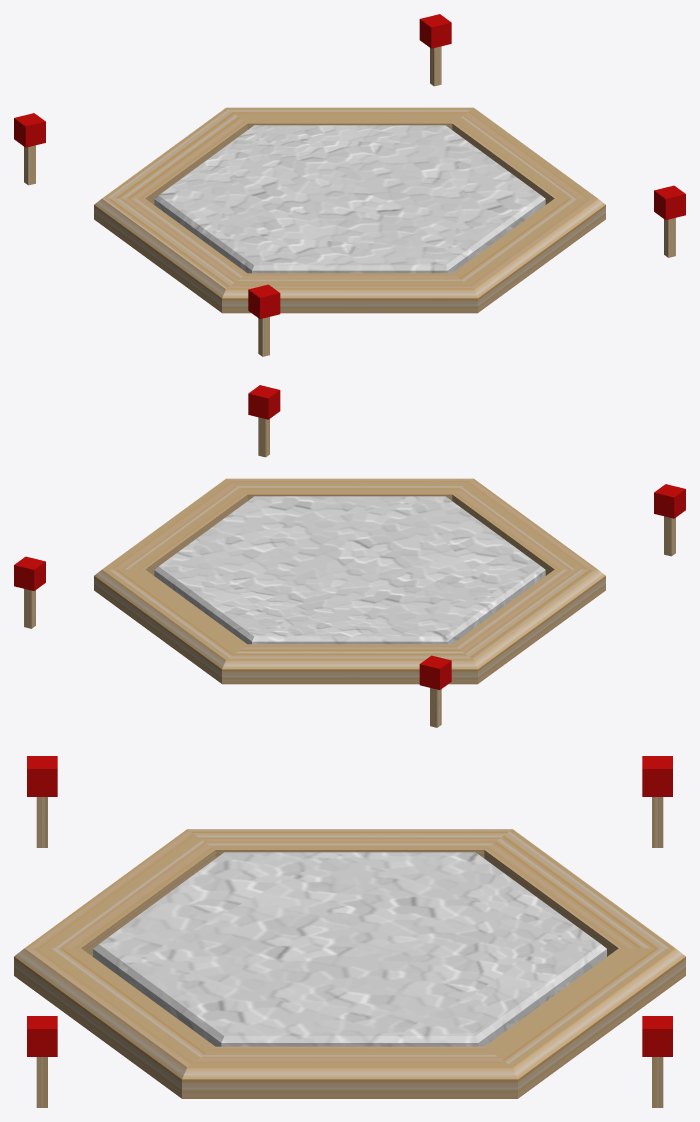
The model's file is Switch.obj.
3 renders of one model, top to bottom at view 1: azimuth 30°, elevation 25°; view 2: azimuth 150°, elevation 25°; view 3: azimuth 270°, elevation 25°, orthographic. The views are drawn at different scales.
Parts seen in each view (by area): view 1: Cylinder.001, Cylinder, Cube_Cube.003, Cube.001_Cube.004; view 2: Cylinder.001, Cylinder, Cube_Cube.003, Cube.001_Cube.004; view 3: Cylinder.001, Cylinder, Cube_Cube.003, Cube.001_Cube.004.
Boxes of the visible parts, x1,y1,x2,y2 form: Cylinder.001: (154, 125, 545, 273); Cylinder: (94, 107, 605, 313); Cube_Cube.003: (14, 14, 685, 318); Cube.001_Cube.004: (24, 46, 675, 356); Cylinder.001: (154, 496, 545, 644); Cylinder: (94, 478, 605, 684); Cube_Cube.003: (14, 385, 685, 689); Cube.001_Cube.004: (24, 417, 675, 727); Cylinder.001: (93, 852, 606, 1046); Cylinder: (14, 829, 685, 1098); Cube_Cube.003: (27, 756, 672, 1056); Cube.001_Cube.004: (36, 797, 663, 1107).
Size of the model in its own units: 2.52 by 0.3587 by 2.62.
4 materials, 2 textured.
